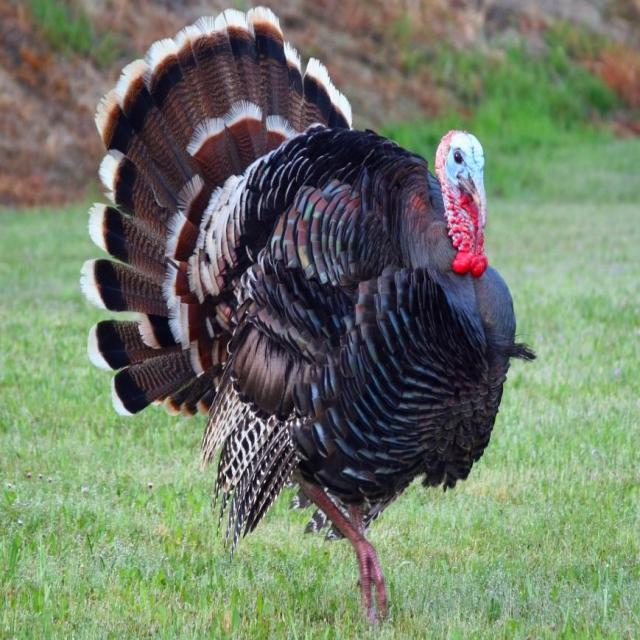turkey: (81, 7, 534, 621)
